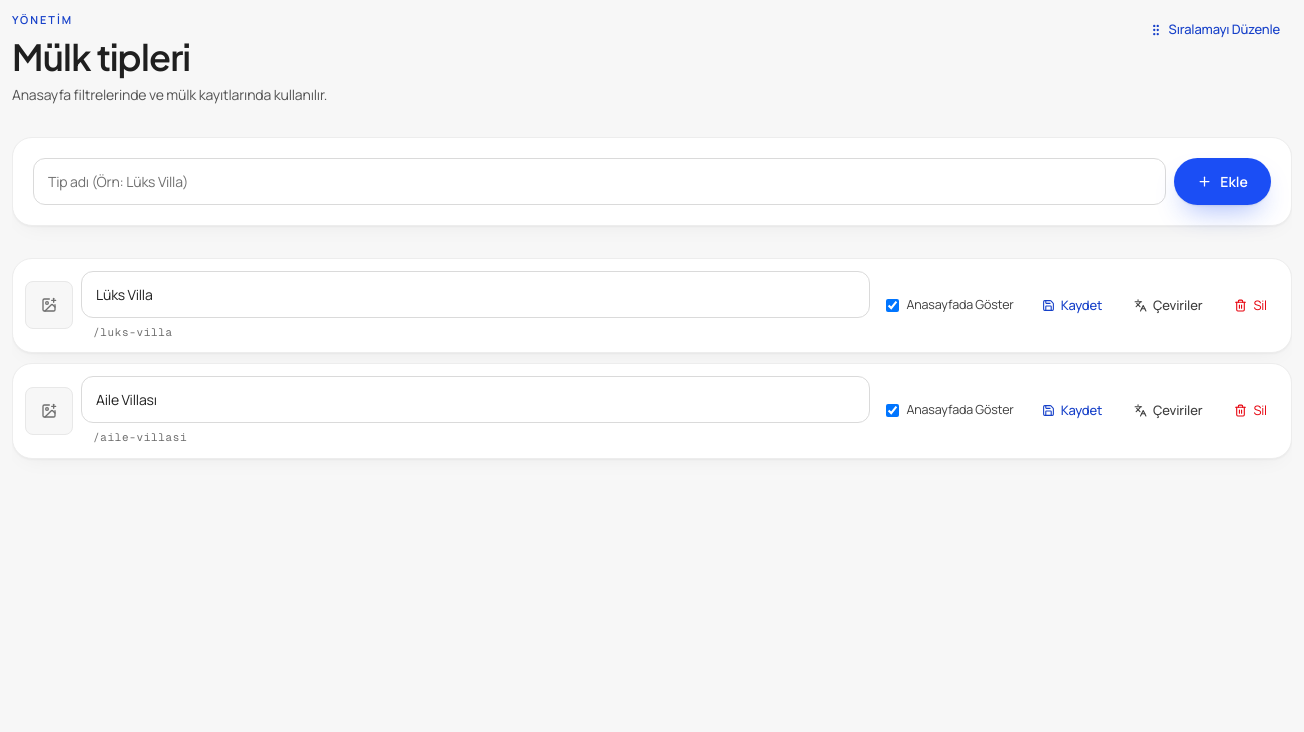
it: TypesPage — Phase 10D Batch 3 — panel açma/kapama + tab mekaniği › 6) İkinci satıra basınca önceki panel kapanır (tek panel açık)
Click the button with aria-label "çevirileri".
click(1168, 305)  # box [1122,288,1214,323]
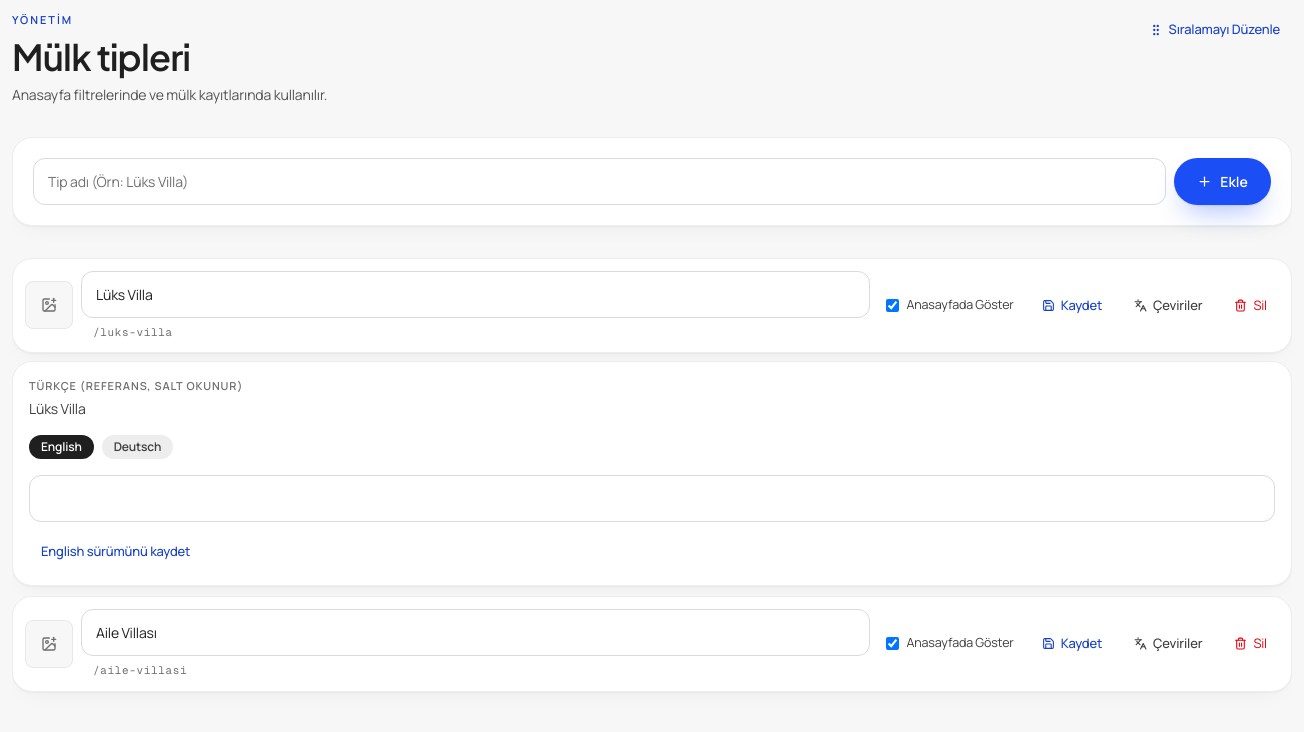
Result: the text "Türkçe (referans, salt okunur)" is shown at [29,378,243,393]
Click the button with aria-label "çevirileri".
click(1168, 644)  # box [1122,626,1214,662]
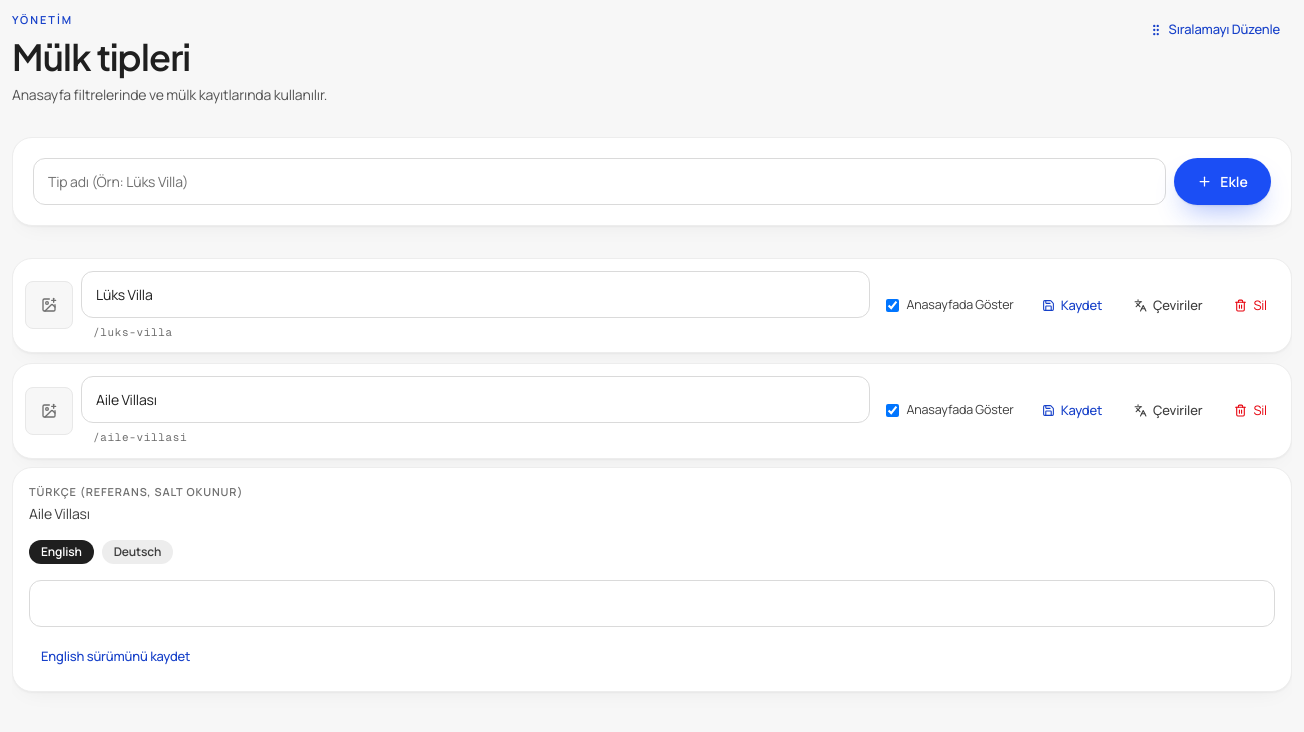
Result: the text "Türkçe (referans, salt okunur)" is shown once at [29,484,243,498]
Result: the text "Aile Villası" is shown at [29,504,90,523]
